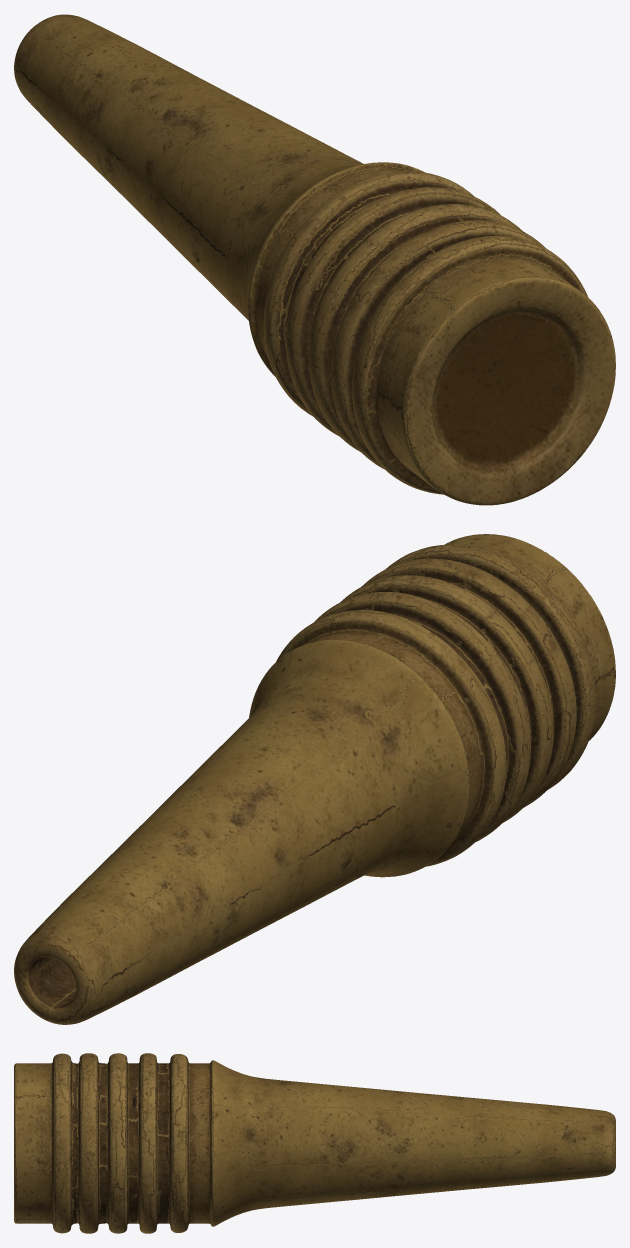
3 renders of one model, top to bottom at view 1: azimuth 30°, elevation 25°; view 2: azimuth 150°, elevation 25°; view 3: azimuth 270°, elevation 25°, orthographic. The views are drawn at different scales.
Size of the model in its own units: 0.5818 by 0.582 by 1.94.
Materials: 1 (1 with a texture image).
